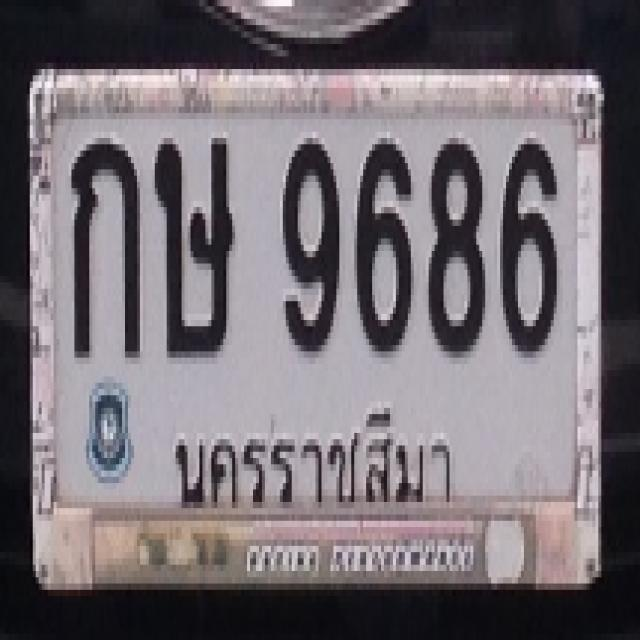license_plate: (23, 62, 604, 591)
